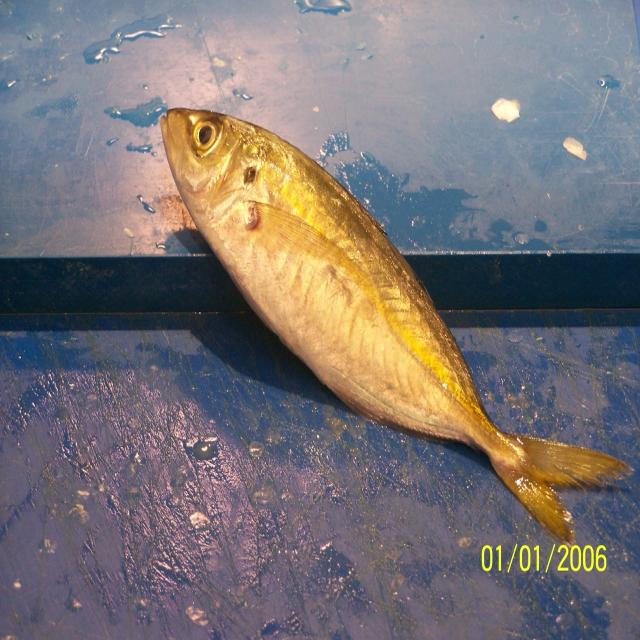Hourse-Mackerel-istavrit-: (158, 108, 631, 546)
